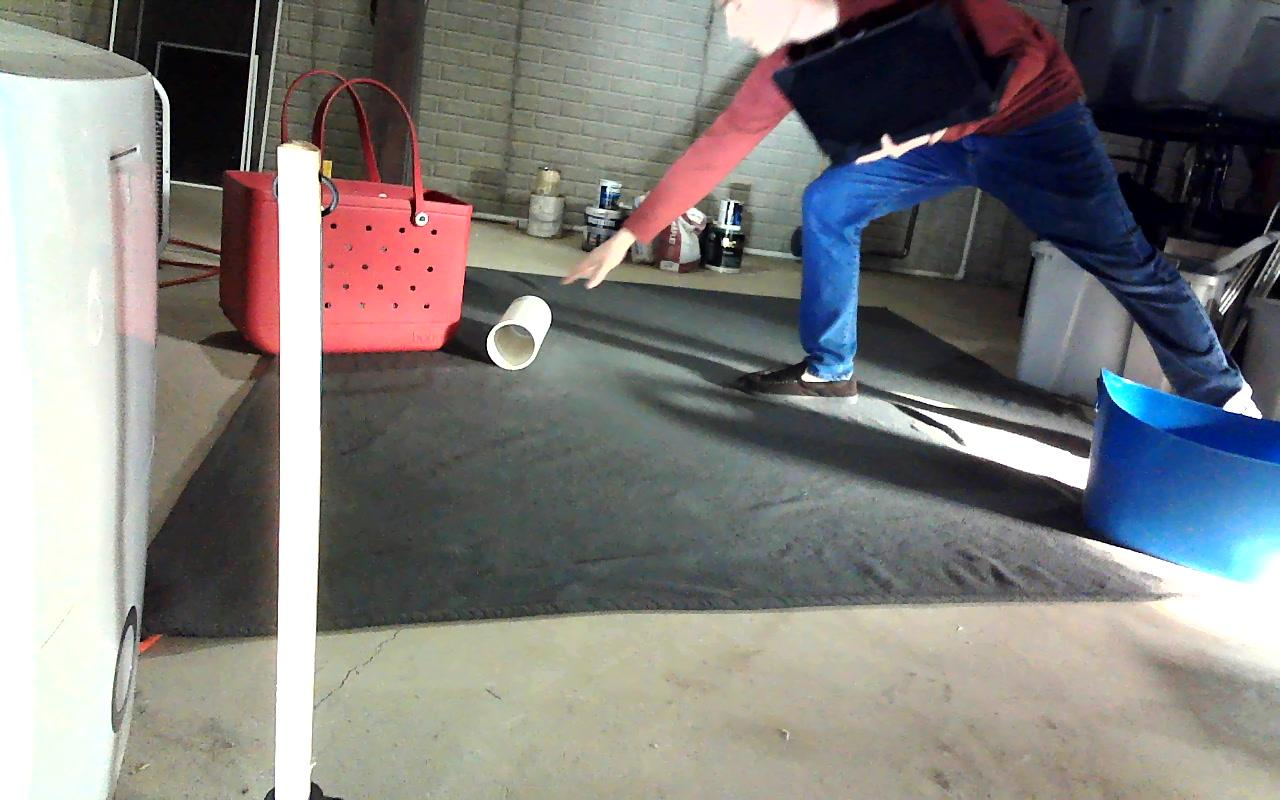coral: (487, 296, 551, 370)
